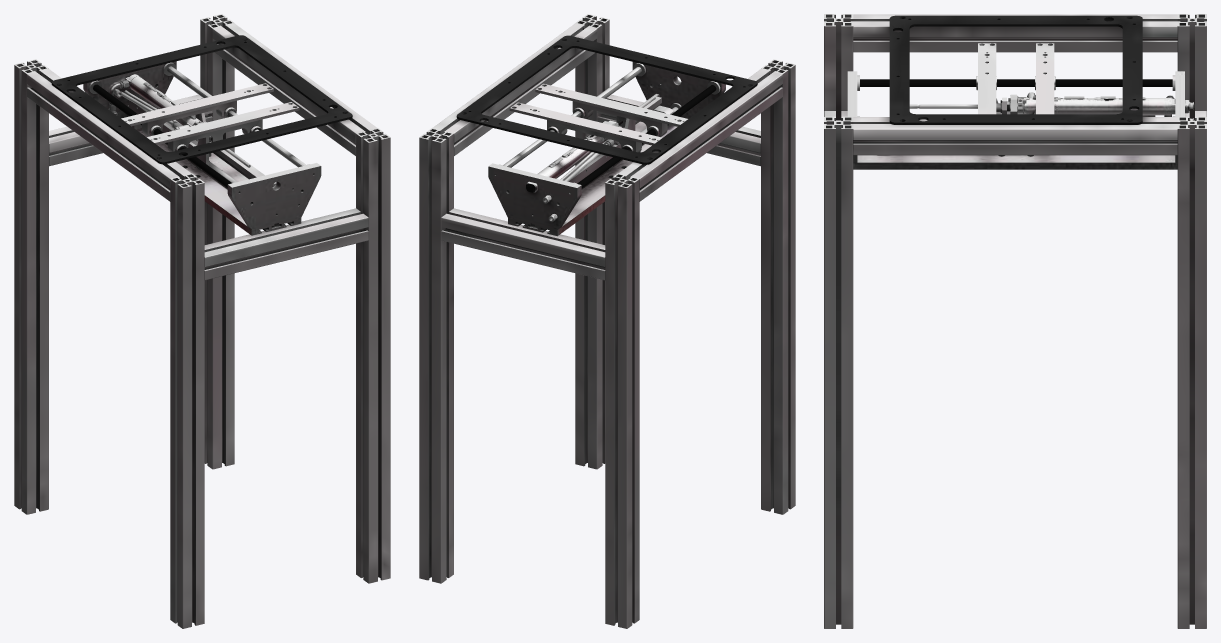
The model's file is universalSharingStation.glb.
3 views of the same model, side by side, from view 1: azimuth 30°, elevation 25°; view 2: azimuth 150°, elevation 25°; view 3: azimuth 270°, elevation 25° (orthographic). The views are drawn at different scales.
Size of the model in its own units: 420 by 854 by 590.
Materials: 3 (3 with a texture image).
